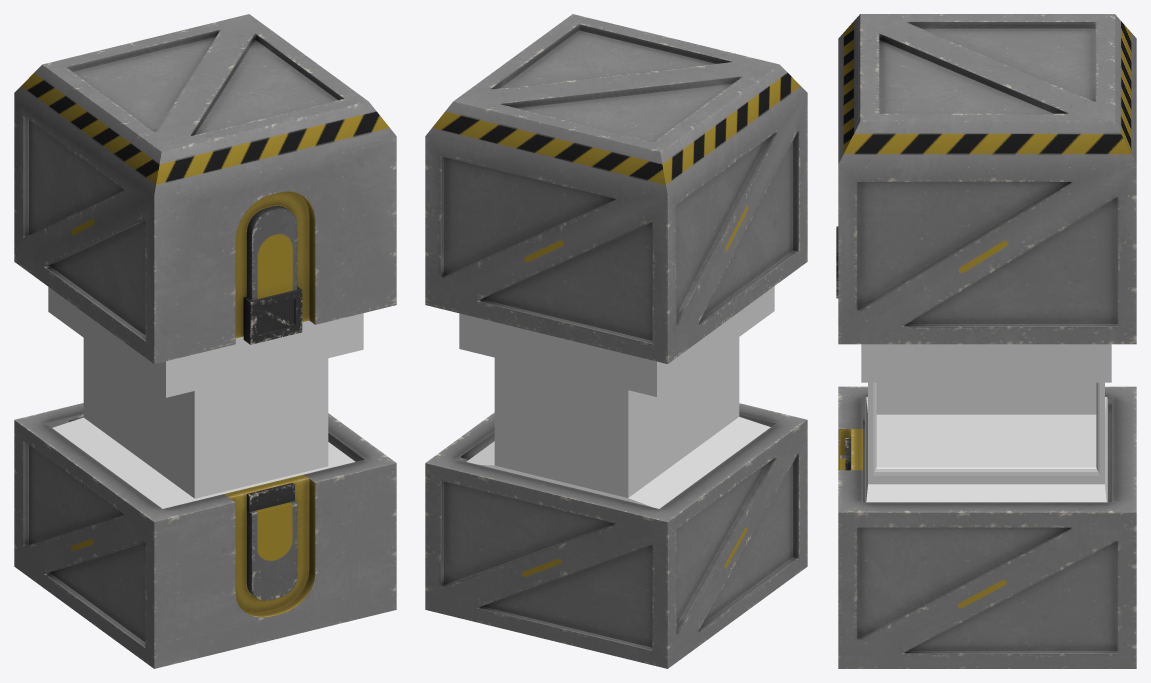
The model's file is horno.fbx.
3 renders of one model, left to right at view 1: azimuth 30°, elevation 25°; view 2: azimuth 150°, elevation 25°; view 3: azimuth 270°, elevation 25°, orthographic. The views are drawn at different scales.
Visible parts, largest first — view 1: Sci_Fi_Objets.001, Sci_Fi_Objets.2, Cube, Cube.001; view 2: Sci_Fi_Objets.001, Sci_Fi_Objets.2, Cube, Cube.001; view 3: Sci_Fi_Objets.001, Sci_Fi_Objets.2, Cube, Cube.001.
Boxes of the visible parts, x1,y1,x2,y2 form: Sci_Fi_Objets.001: [14, 14, 396, 363]; Sci_Fi_Objets.2: [14, 403, 396, 668]; Cube: [52, 338, 355, 508]; Cube.001: [48, 287, 363, 397]; Sci_Fi_Objets.001: [425, 14, 807, 363]; Sci_Fi_Objets.2: [425, 403, 807, 668]; Cube: [466, 337, 770, 508]; Cube.001: [459, 286, 774, 396]; Sci_Fi_Objets.001: [836, 14, 1136, 344]; Sci_Fi_Objets.2: [838, 386, 1136, 668]; Cube: [865, 382, 1107, 502]; Cube.001: [861, 344, 1111, 382].
Bounding box in the file's own units: 363 × 723 × 366.
1 material, 1 textured.
